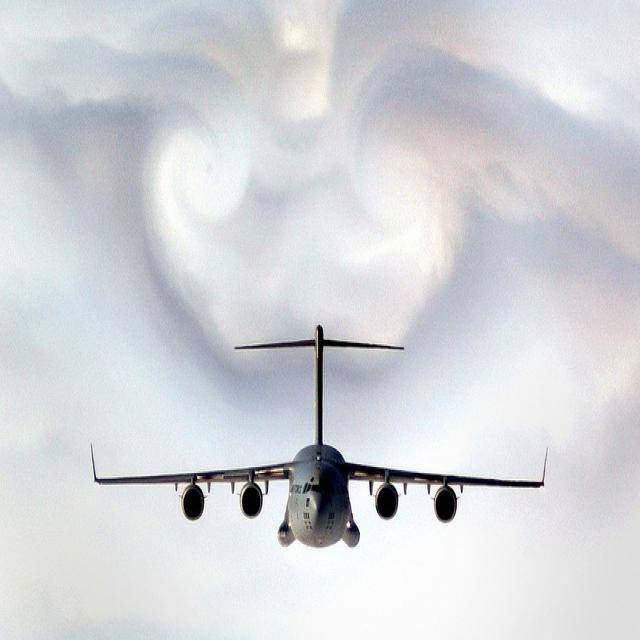airplane: (88, 322, 551, 550)
